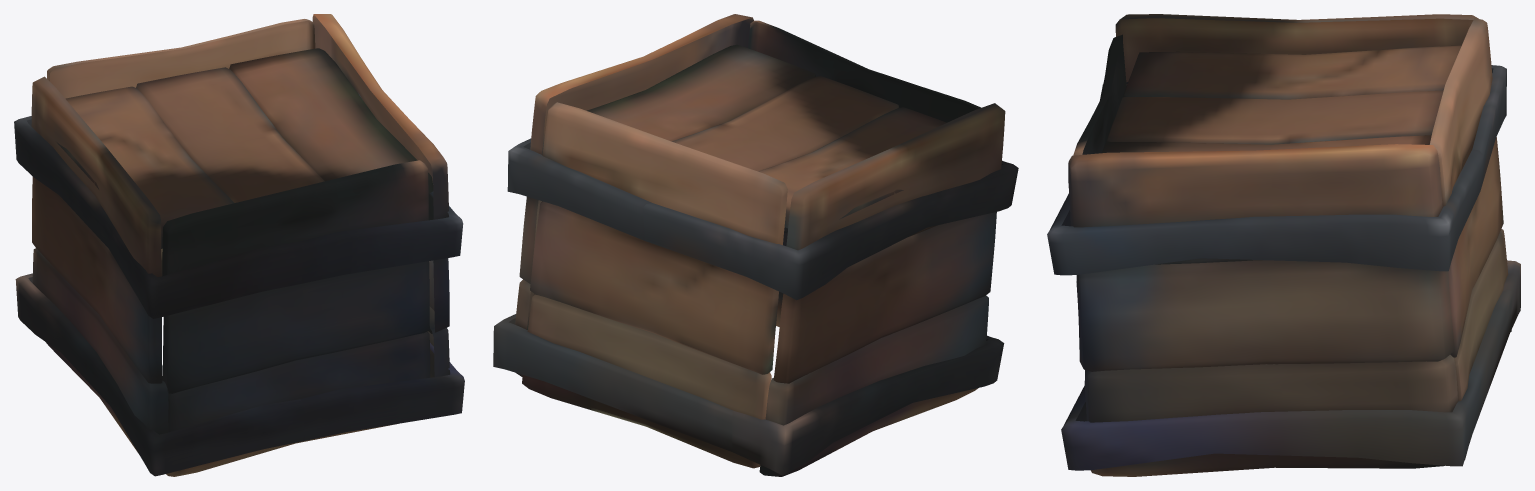
The model's file is Beach_Debris_1.glb.
The picture shows the model from 3 angles, left to right: view 1: azimuth 30°, elevation 25°; view 2: azimuth 150°, elevation 25°; view 3: azimuth 270°, elevation 25°; orthographic projection. The views are drawn at different scales.
Visible parts, largest first — view 1: Object_2.016; view 2: Object_2.016; view 3: Object_2.016.
Part boxes in pixels (box(x1,y1,x2,y2)): Object_2.016: box(14, 14, 464, 476); Object_2.016: box(493, 14, 1018, 476); Object_2.016: box(1047, 14, 1520, 476).
Size of the model in its own units: 8.28 by 7.05 by 8.45.
Materials: 1 (1 with a texture image).
